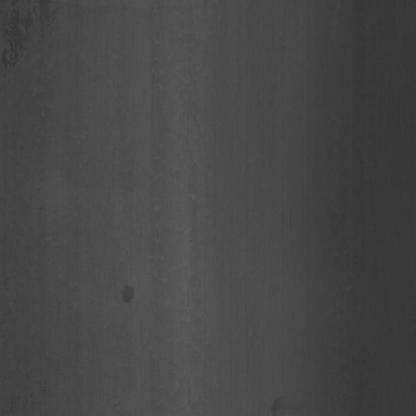water_spot: (118, 273, 141, 312)
